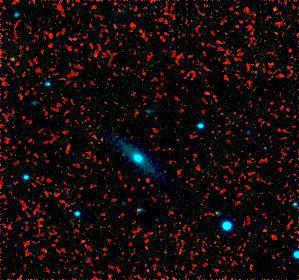star: (192, 79, 222, 109)
